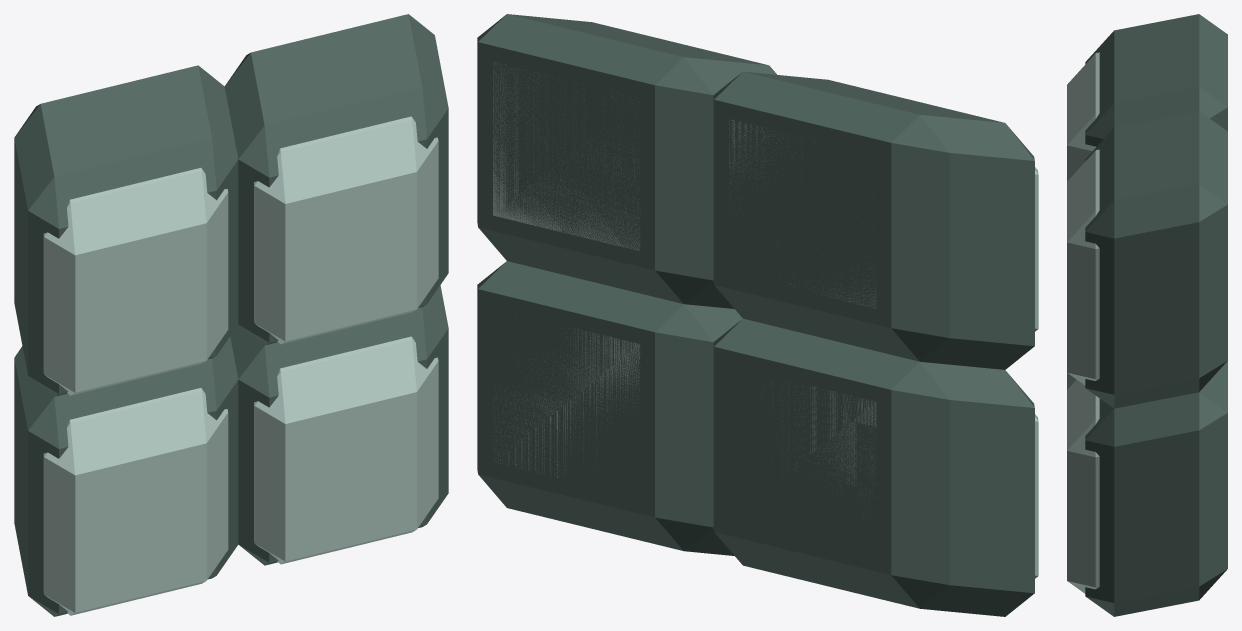
Rendered from Terrain_Block2x2.gltf.
3 views of the same model, side by side, from view 1: azimuth 30°, elevation 25°; view 2: azimuth 150°, elevation 25°; view 3: azimuth 270°, elevation 25° (orthographic). The views are drawn at different scales.
Parts seen in each view (by area): view 1: Terrain_Block2x2_baked; view 2: Terrain_Block2x2_baked; view 3: Terrain_Block2x2_baked.
Boxes of the visible parts, x1,y1,x2,y2 form: Terrain_Block2x2_baked: (14, 14, 448, 616); Terrain_Block2x2_baked: (477, 14, 1038, 616); Terrain_Block2x2_baked: (1067, 14, 1227, 616).
Size of the model in its own units: 2.15 by 2.15 by 0.7.
